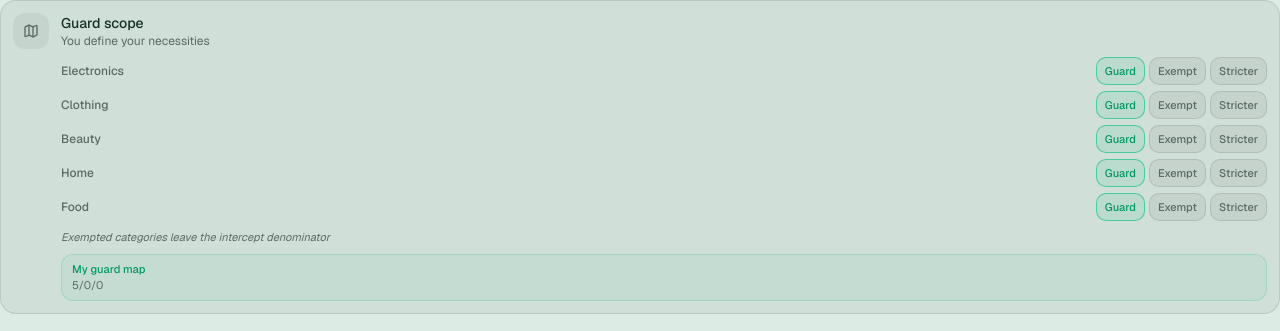
it: GuardScopeSetting › 专属守护地图小结渲染并随切换更新
expect the element with test id "guard-scope-map" is shown: met, box top-left (61, 254), bottom-right (1267, 300)
expect the text with test id "guard-scope-map-summary" reads "5/0/0": met, box top-left (72, 278), bottom-right (103, 292)
Click the radio button with test id "guard-scope-food-exempt": (1177, 207) top-left (1149, 193), bottom-right (1206, 221)
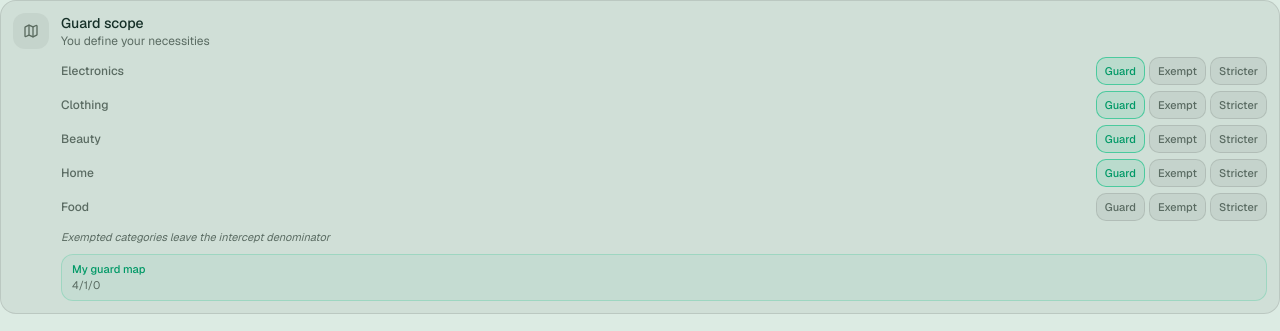
expect the text with test id "guard-scope-map-summary" reads "4/1/0": met, box top-left (72, 278), bottom-right (100, 292)
